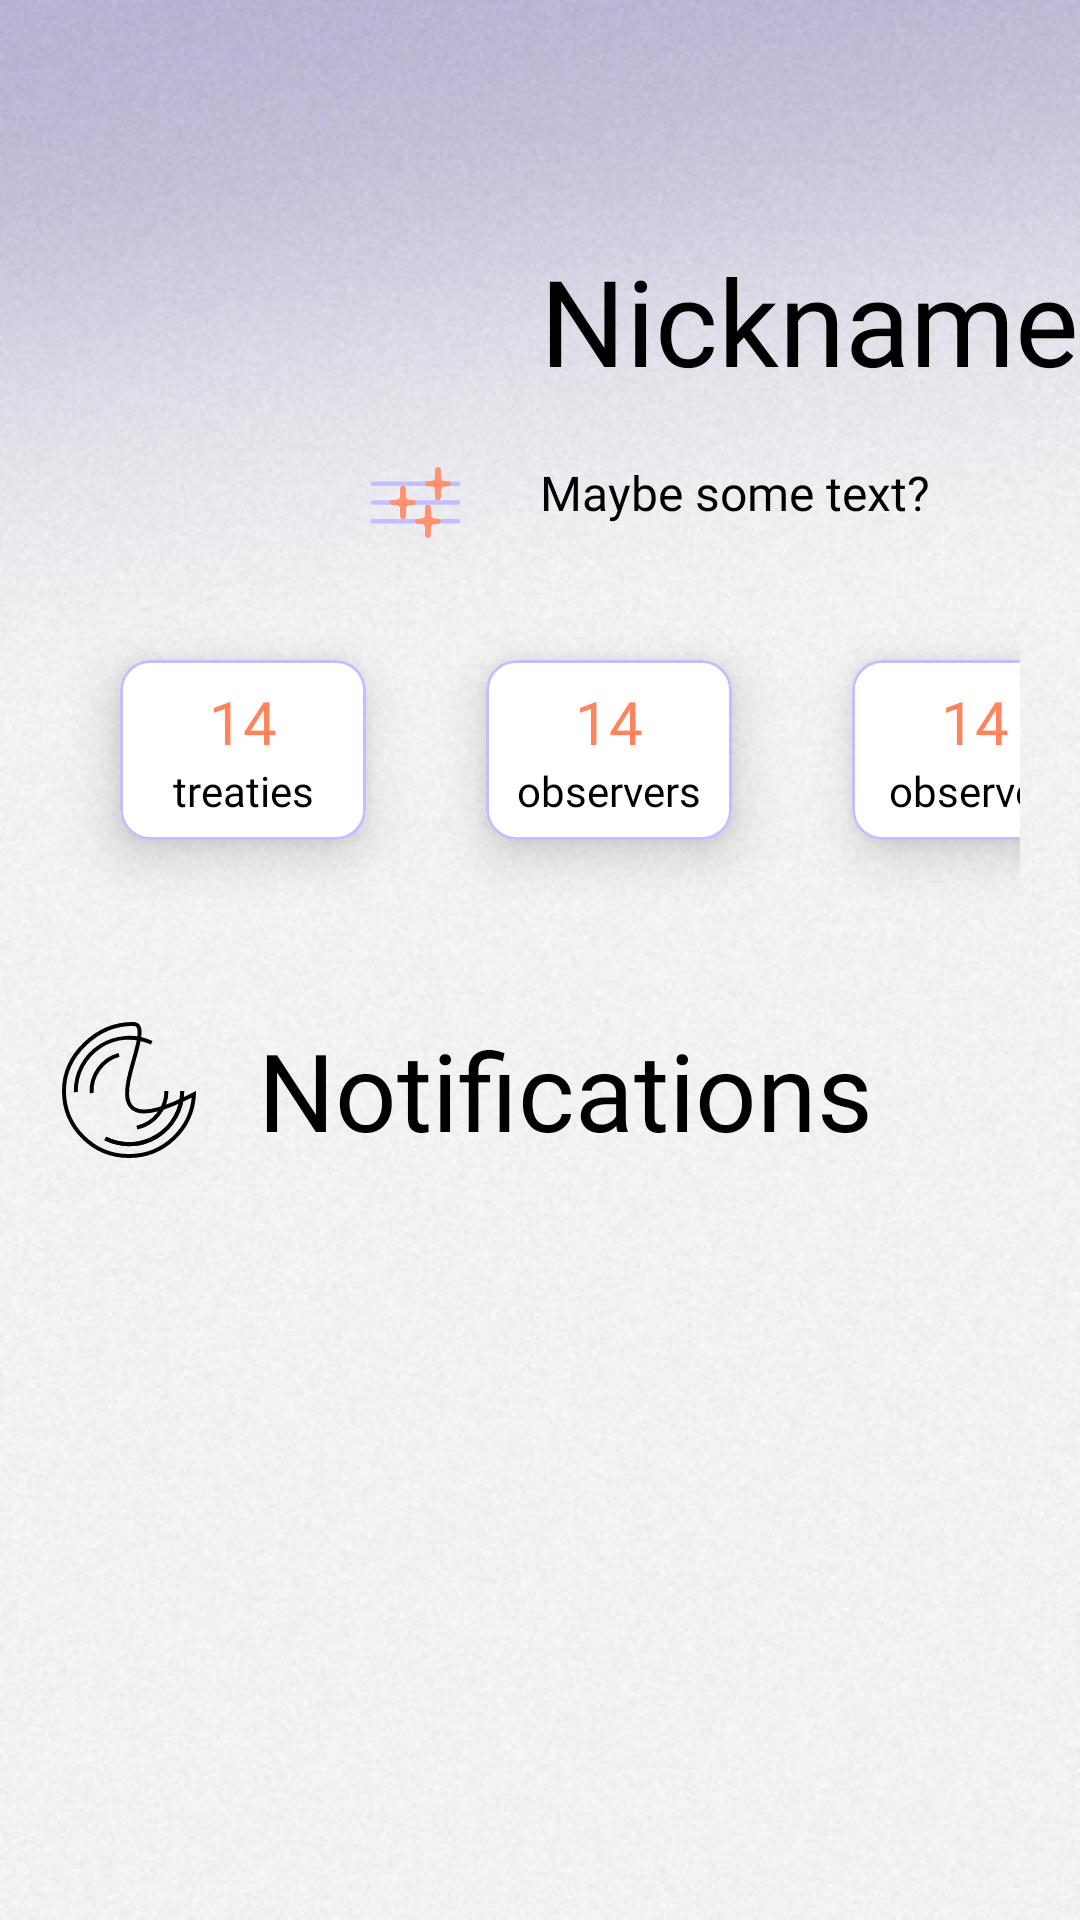

Locate icon controls on the screen. Image size 1080px x 1920px, boxes as (x1, y1, x2, y2).
settings: (370, 467, 460, 538)
